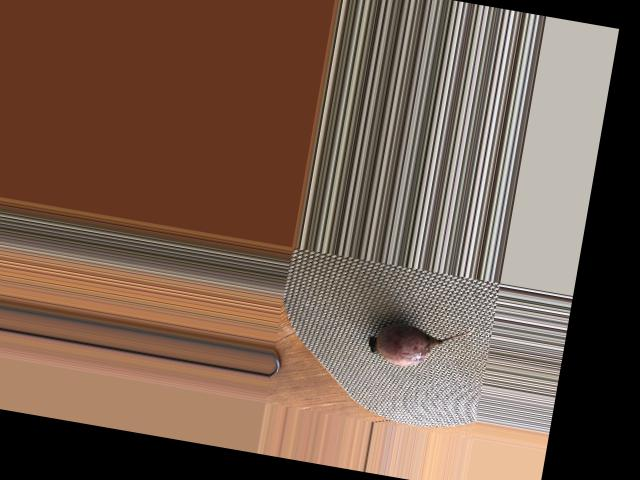beet: (364, 309, 474, 376)
